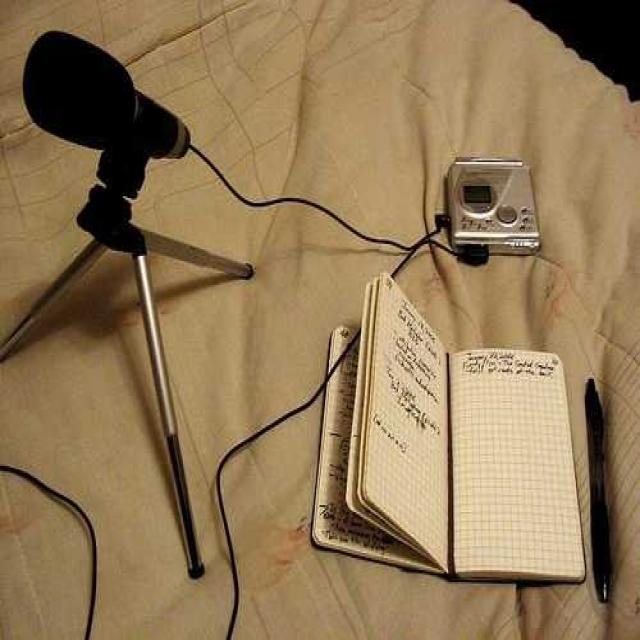microphone: (21, 31, 190, 172)
